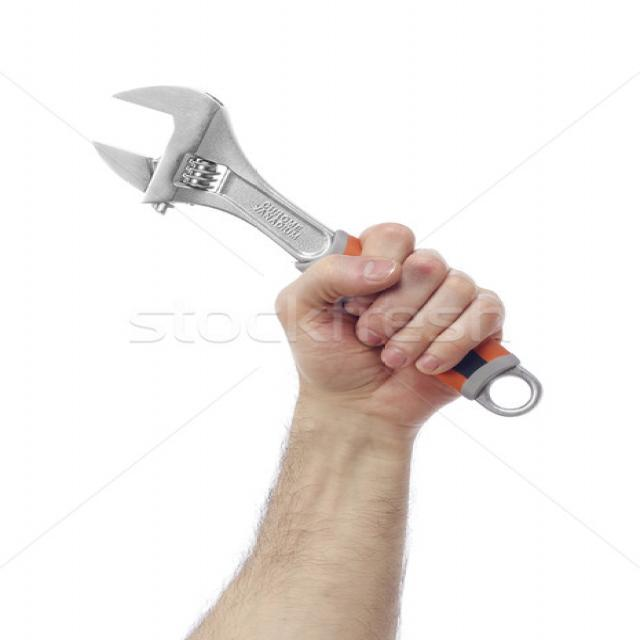wrench: (85, 81, 548, 420)
